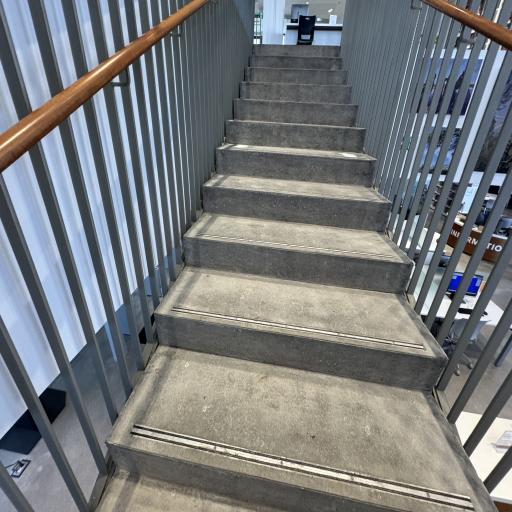Stairs: (100, 45, 496, 512), (102, 347, 494, 512), (155, 248, 446, 390), (184, 214, 412, 294), (203, 174, 391, 232), (216, 143, 376, 187), (226, 119, 366, 152), (234, 98, 357, 127), (240, 82, 352, 104), (246, 67, 346, 86), (250, 55, 342, 70), (253, 44, 340, 58)
